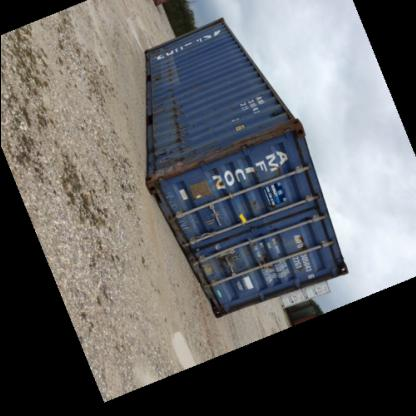Damage: (228, 120, 290, 154), (161, 189, 201, 236), (164, 94, 188, 156), (158, 44, 177, 84), (258, 245, 282, 274), (212, 247, 238, 266), (296, 228, 312, 258), (217, 176, 233, 190)
